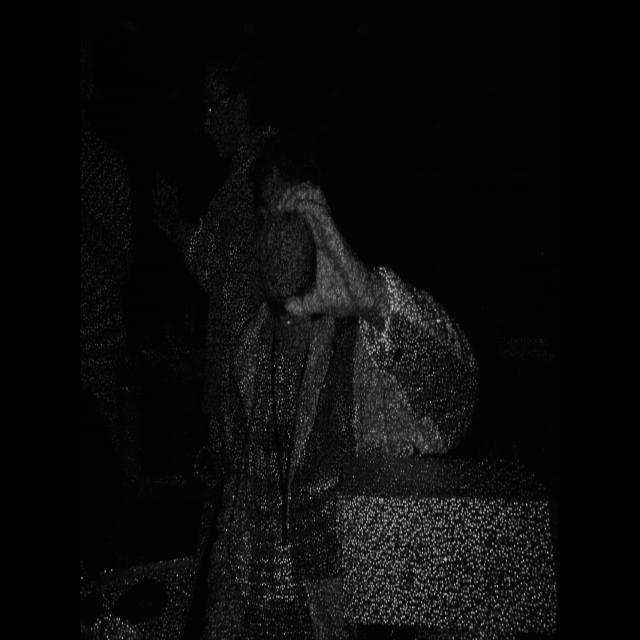C: (269, 170, 351, 336)
